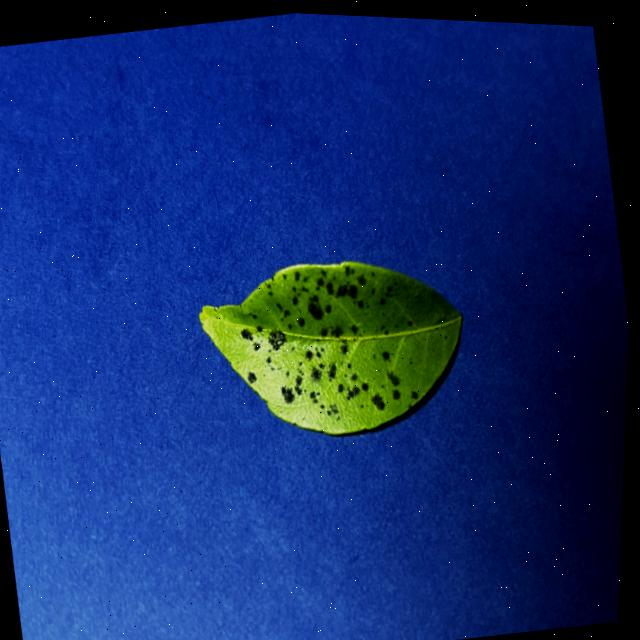sooty_mold: (200, 261, 462, 434)
